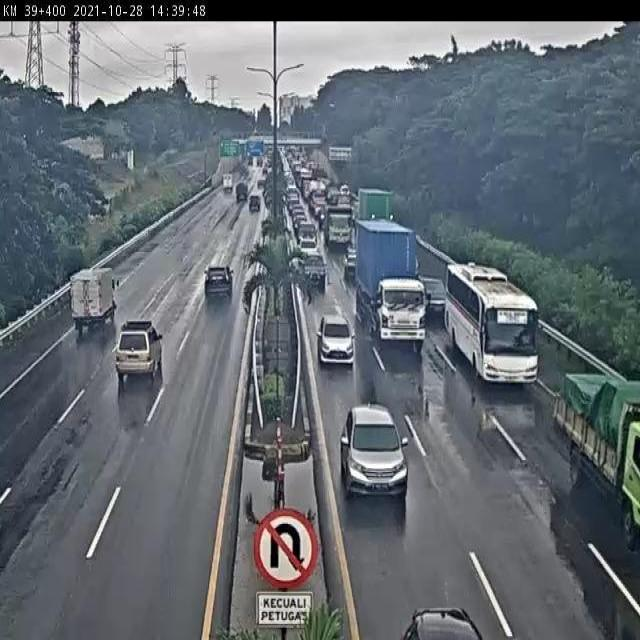Bus: (441, 264, 542, 387)
Car: (338, 407, 413, 513), (115, 319, 165, 385), (317, 310, 355, 372), (297, 252, 328, 290), (325, 205, 351, 249), (203, 266, 234, 298), (425, 276, 445, 320), (299, 224, 319, 250), (286, 187, 303, 216), (343, 248, 356, 282), (294, 214, 308, 235), (250, 192, 260, 216)
Truck: (554, 367, 640, 539), (354, 220, 425, 340), (68, 262, 120, 333), (358, 186, 394, 221), (235, 182, 248, 202), (222, 172, 234, 192)
